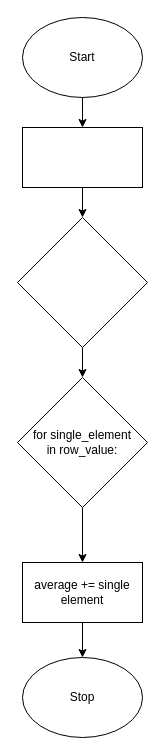
The diagram is 165 pixels wide and 755 high, and some of its shapes have lost their labels. Each missing label, with the centre of its shape:
average = 0: pixel 82 157
for row_value in passed_in_2D_list:: pixel 82 282
